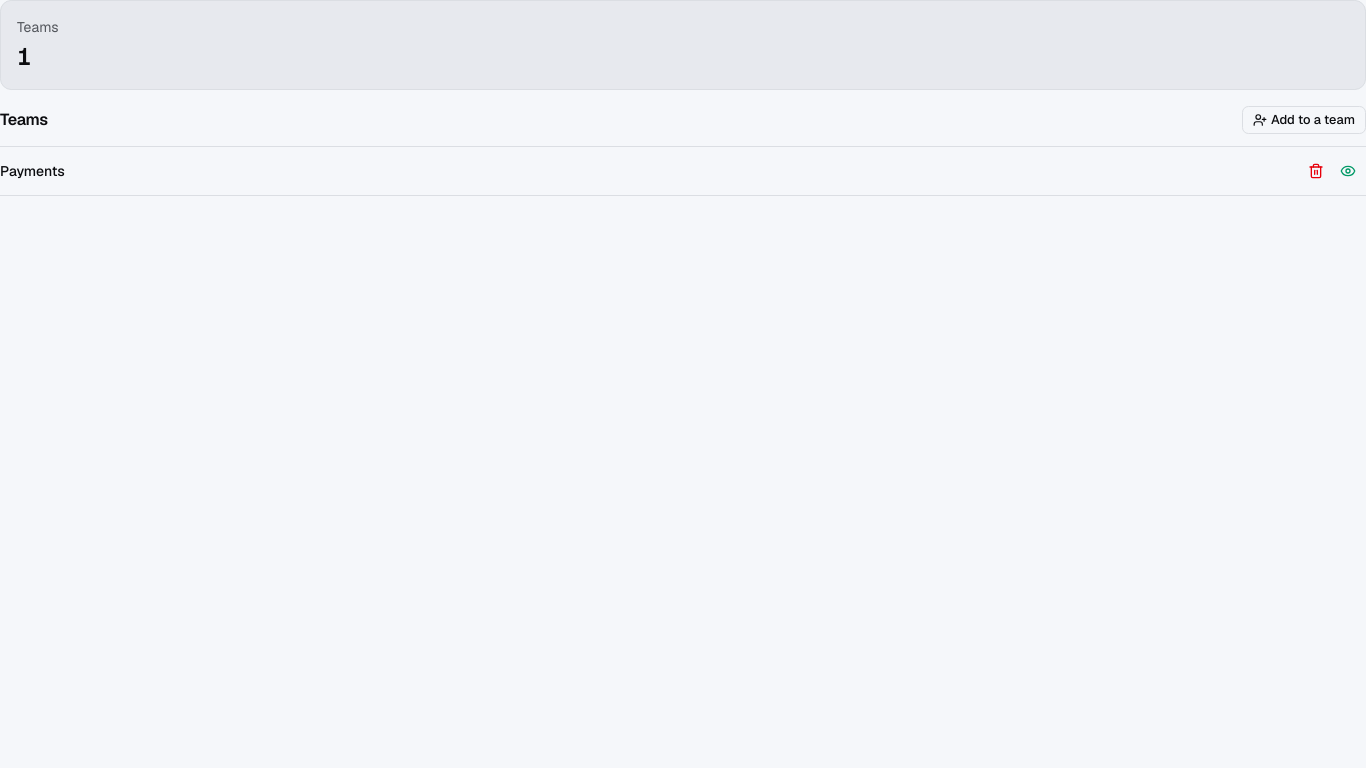
Test case: ResourceStats assign and remove › keeps Save disabled until something is picked
Click the button "Add to a team": (1304,120) [1242,106,1365,134]
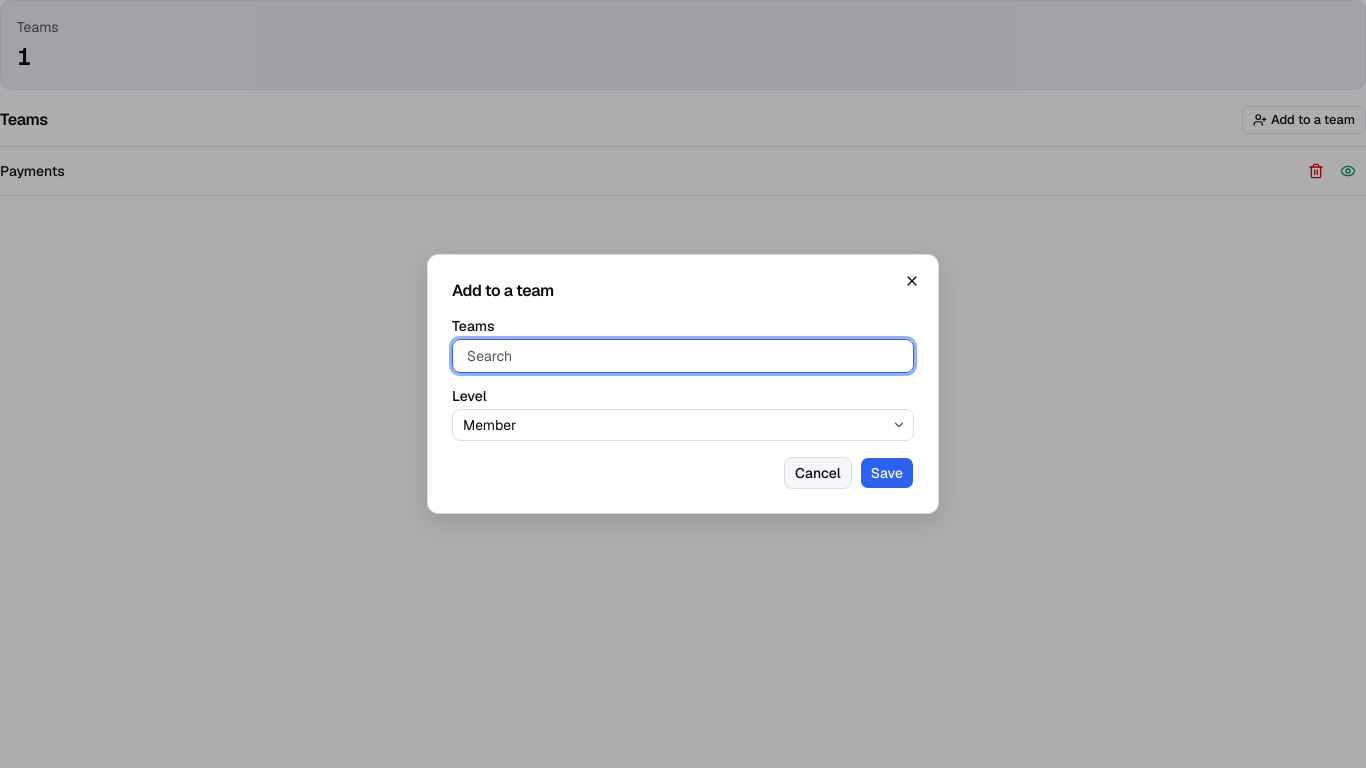
Expected: the button "Save" is disabled, [860,457,914,489]
